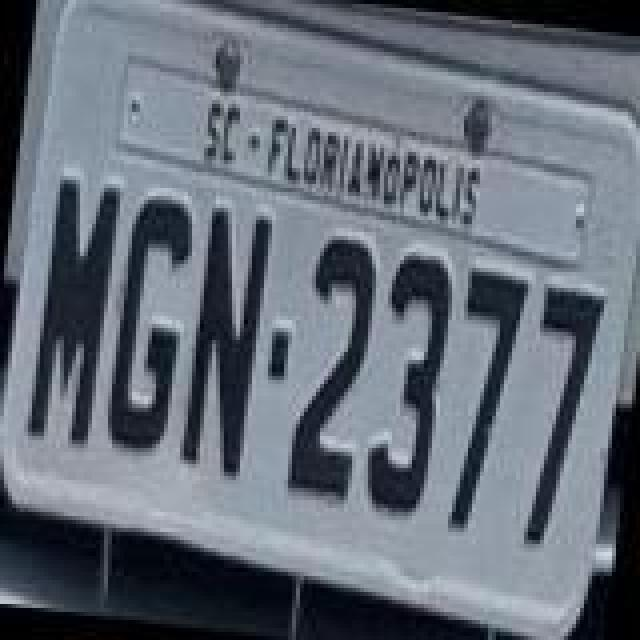2: (284, 230, 388, 506)
3: (358, 242, 458, 518)
7: (432, 258, 536, 542), (510, 278, 610, 554)
G: (102, 182, 202, 458)
M: (22, 172, 122, 452)
N: (172, 192, 276, 480)
